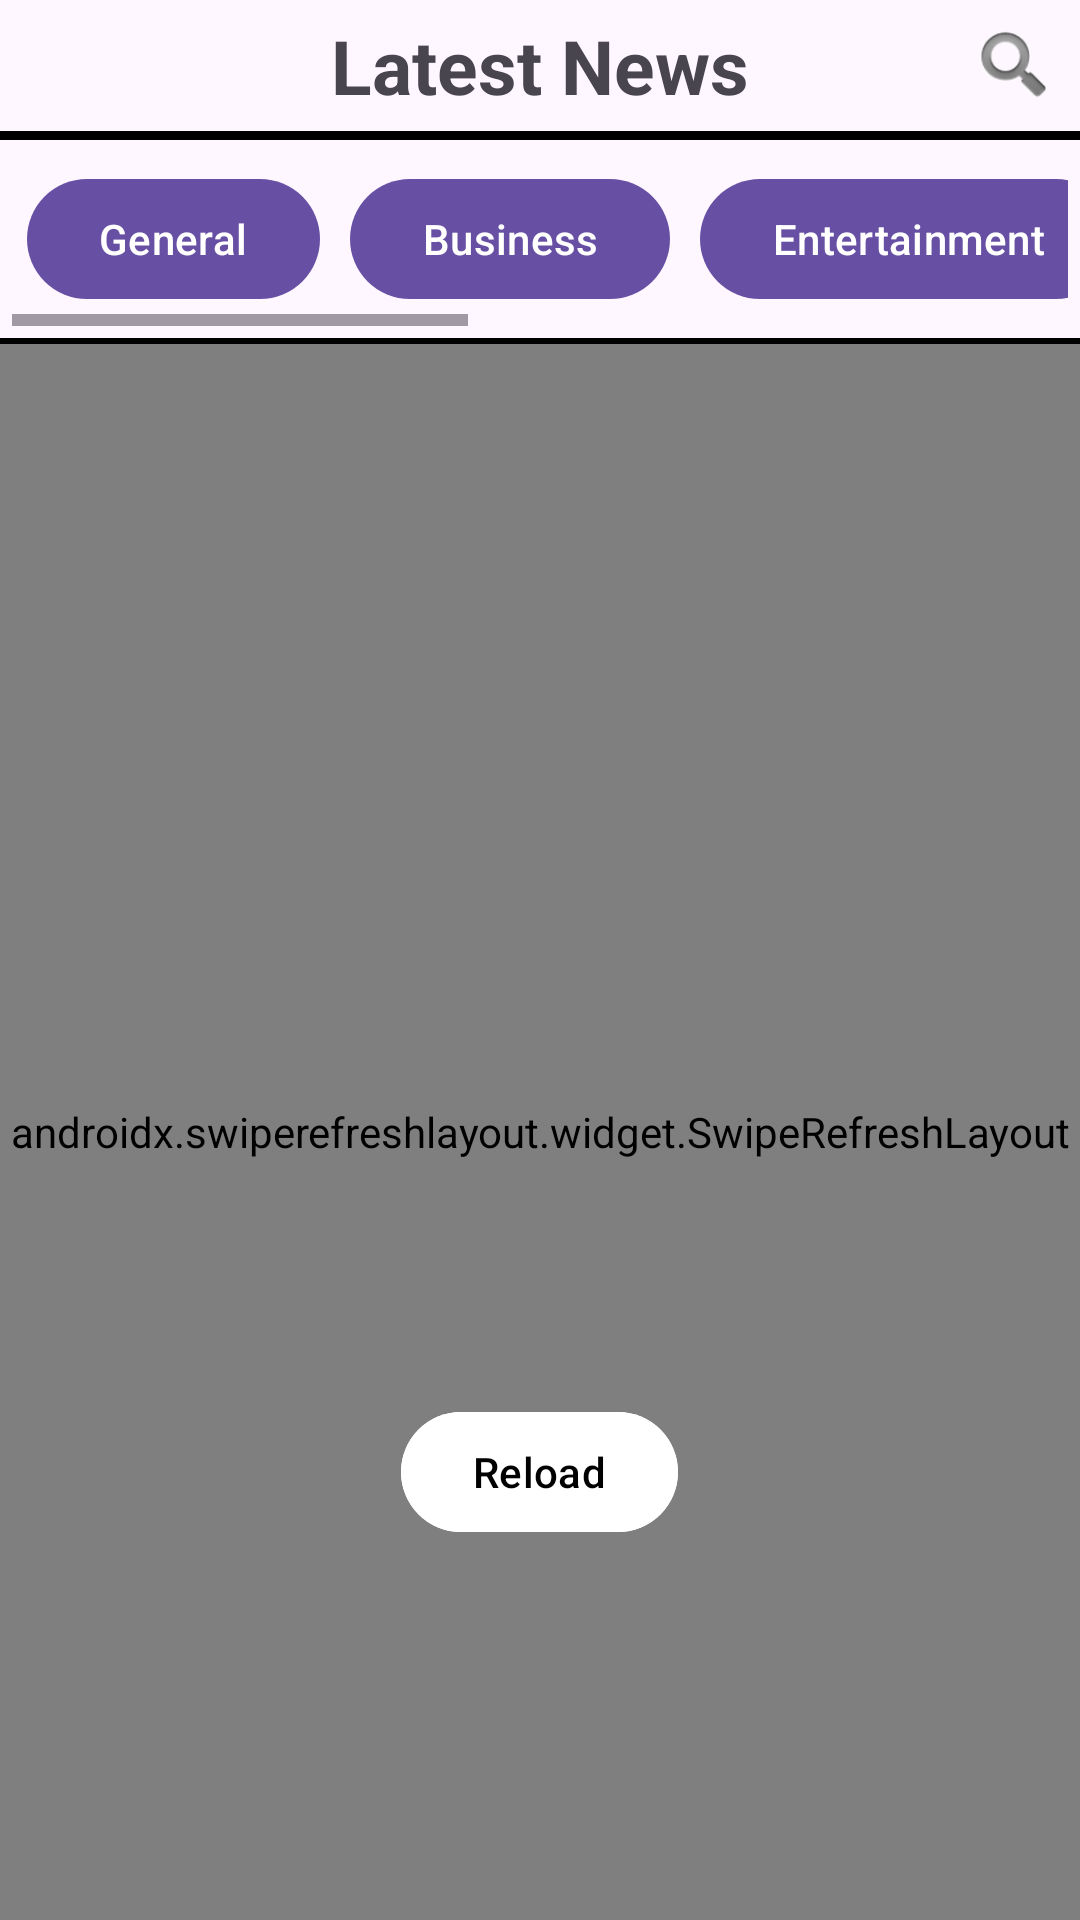

Icons on this 1080x1920 Android screen, each with its box as (x1, y1, x2, y2):
search category: (981, 32, 1046, 97)
